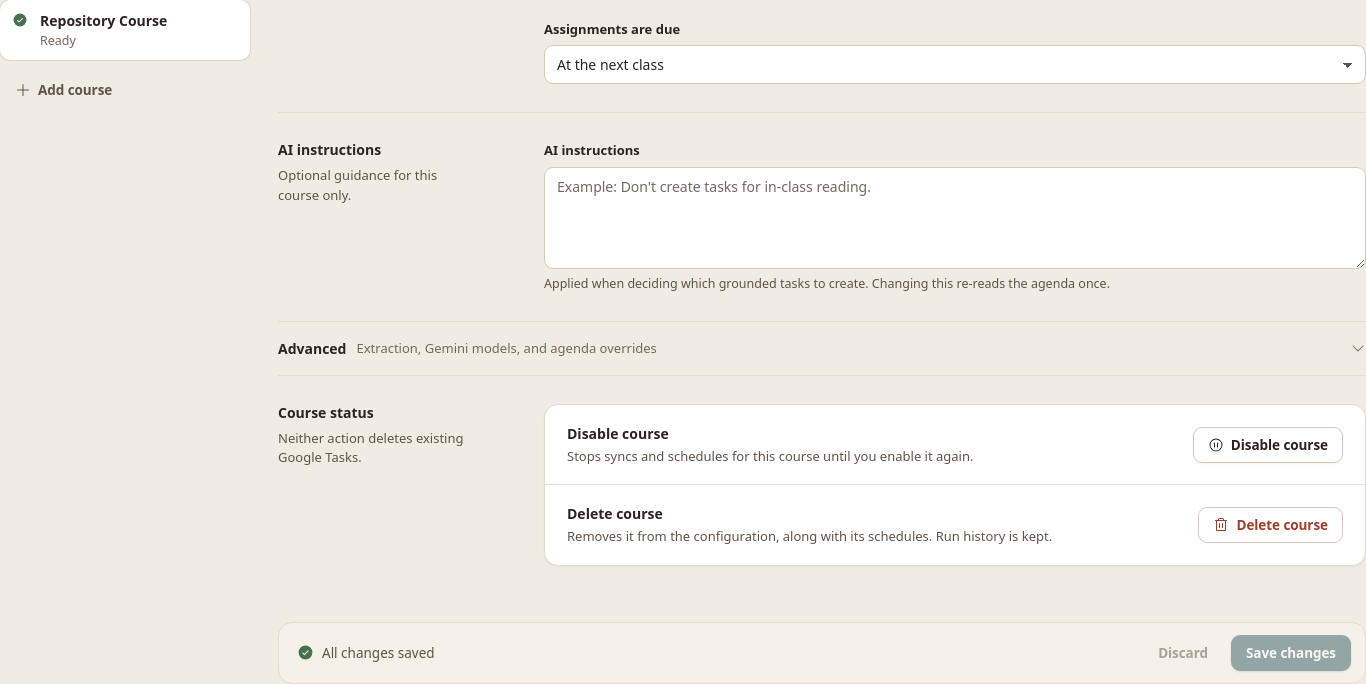
it: operational pages › deletes a course only after explicit confirmation
(page scrolled)
Step 1. Click the button "Delete course" → (1271, 525), box [1198,507,1343,543]
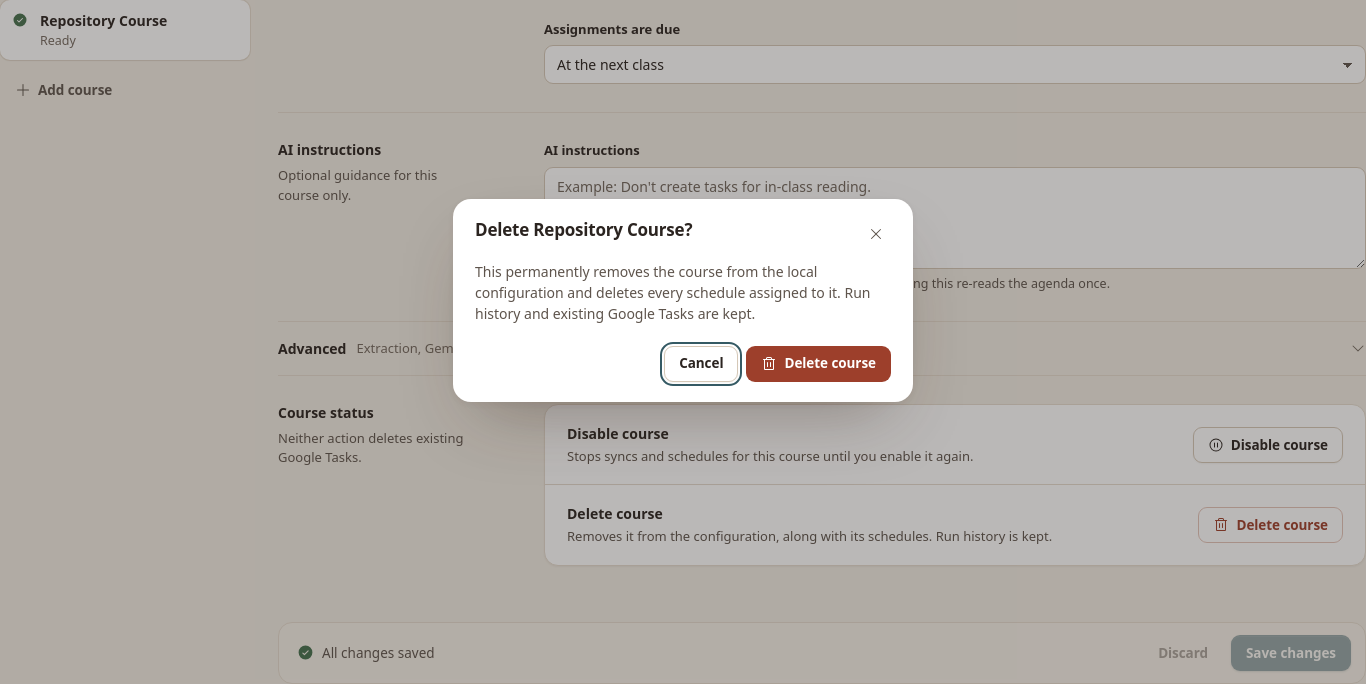
Now the text "existing Google Tasks are kept" is shown, box [475,262,870,322]
Step 2. Click the button "Delete course" → (819, 364), box [746,346,891,382]
(page scrolled)
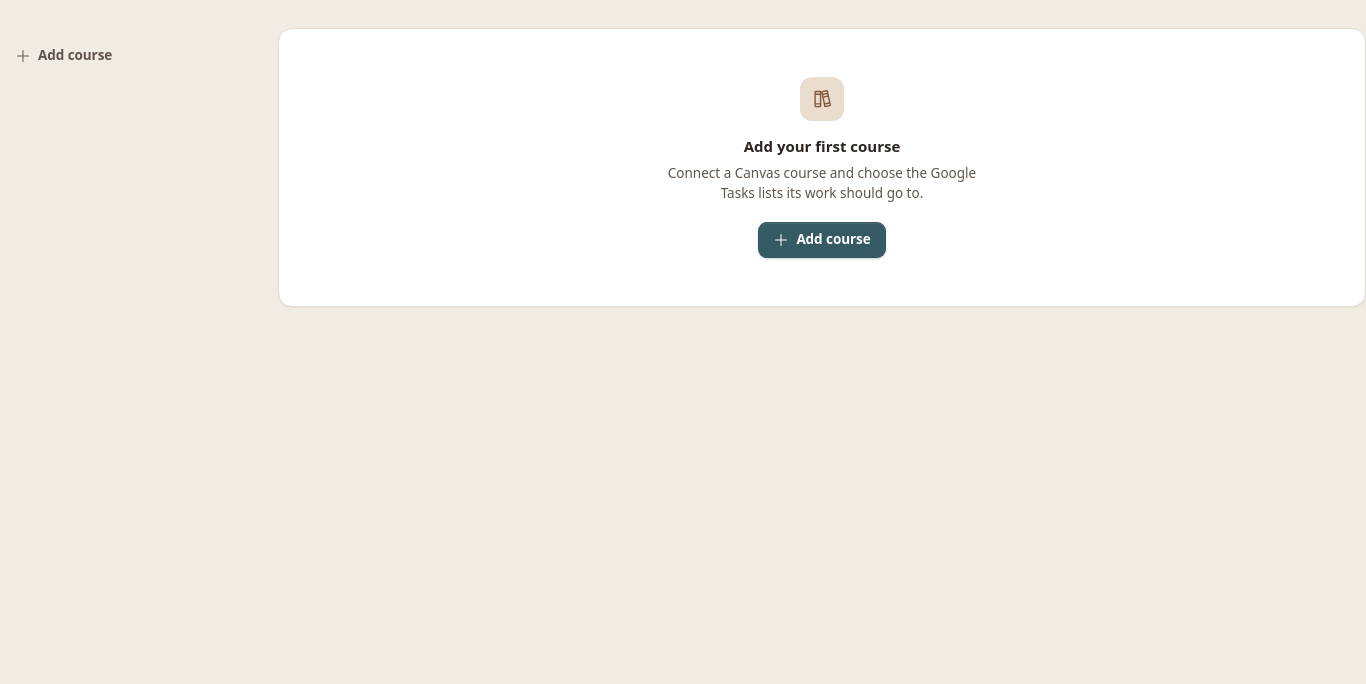
Now the text "Add your first course" is shown, box [744,134,900,157]
